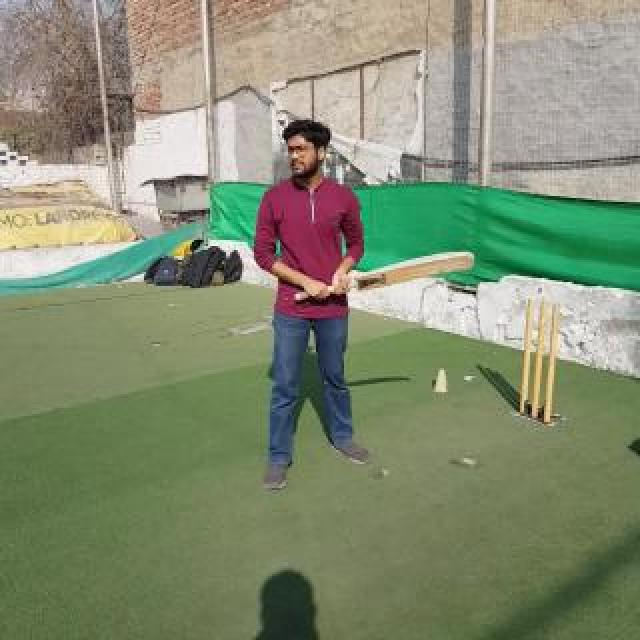bat: (294, 250, 476, 302)
